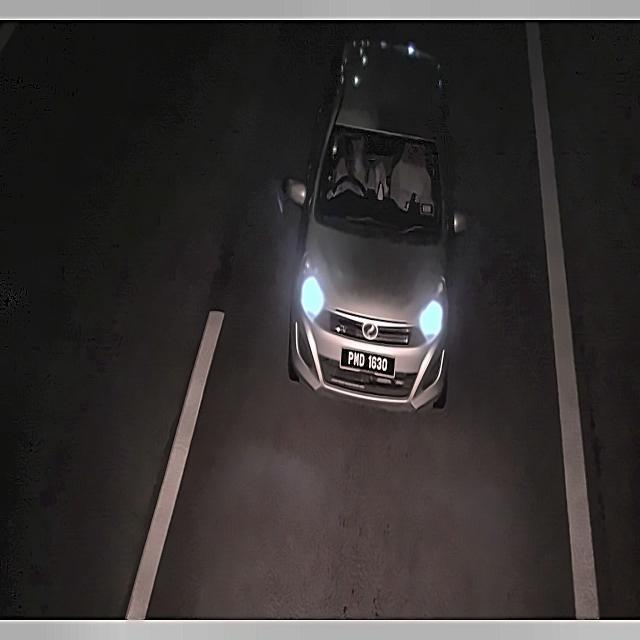car: (336, 346, 403, 379)
